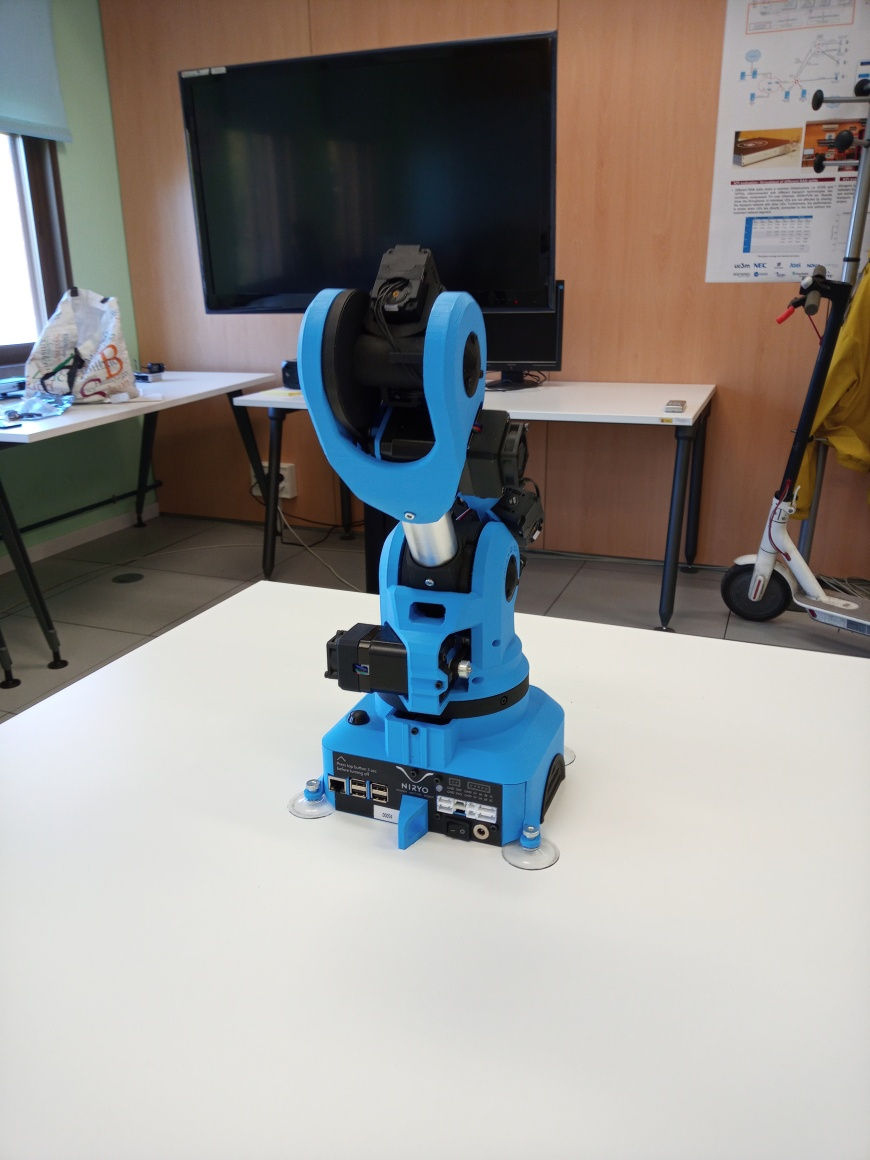robot: (283, 241, 581, 876)
